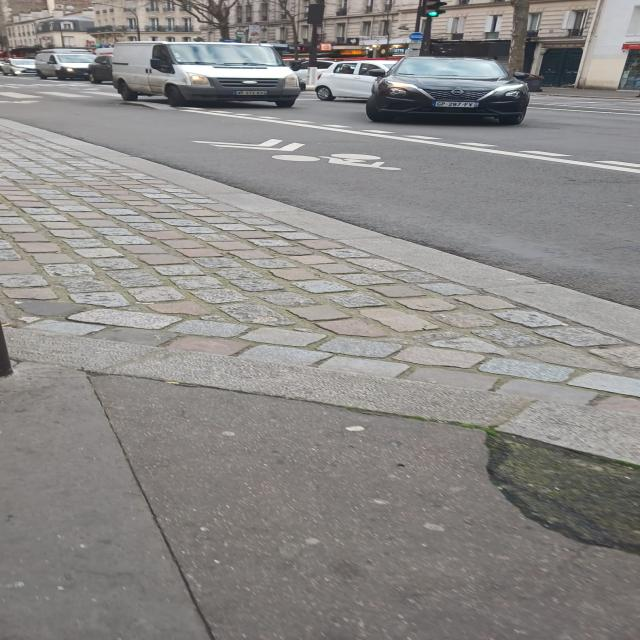Autre: (431, 94, 486, 112), (235, 85, 278, 96)
